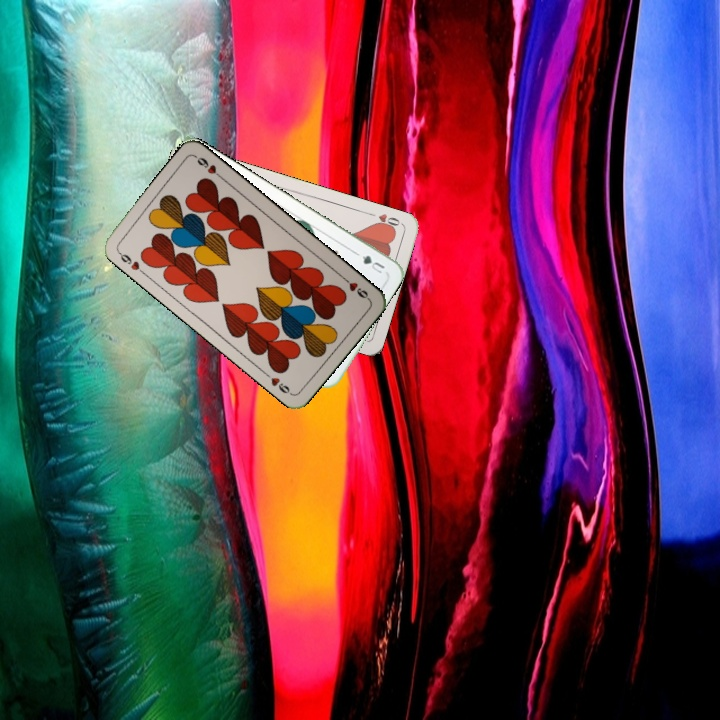GU: (352, 248, 387, 276)
H9: (338, 272, 372, 302), (114, 247, 148, 277)
HO: (364, 209, 404, 232)
